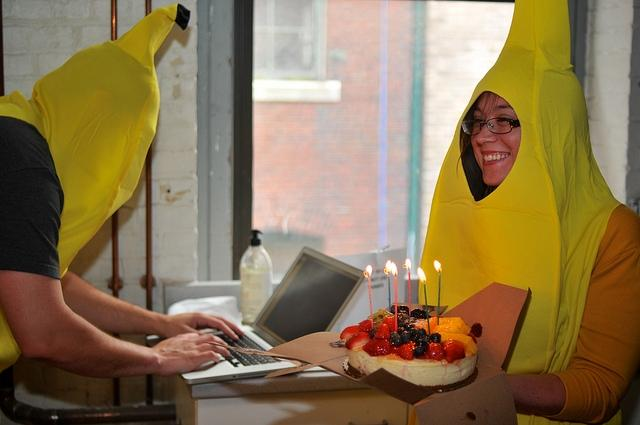banana: (418, 0, 626, 374), (0, 3, 191, 373)
